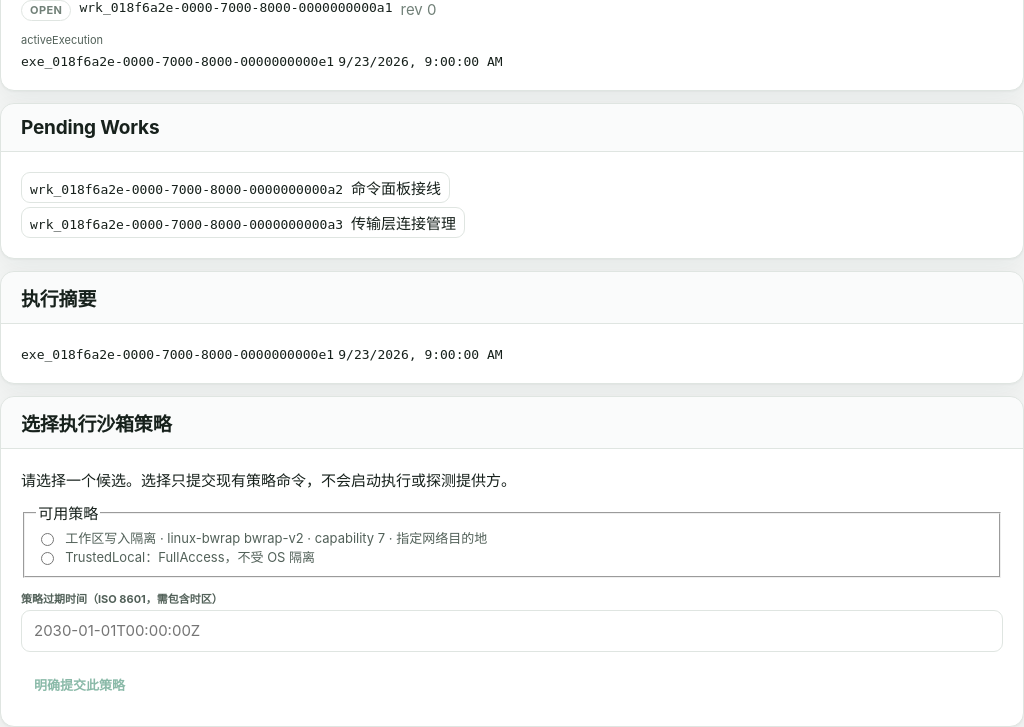
it: W-05 Workspace page › clears a stale candidate read and requires a fresh deliberate reselection even when its ID is unchanged
(page scrolled)
Click the radio button labelled "工作区写入隔离 · linux-bwrap bwrap-v2 · capability 7 · 指定网络目的地" at {"x": 48, "y": 539}, box top-left (41, 533), bottom-right (54, 546)
(page scrolled)
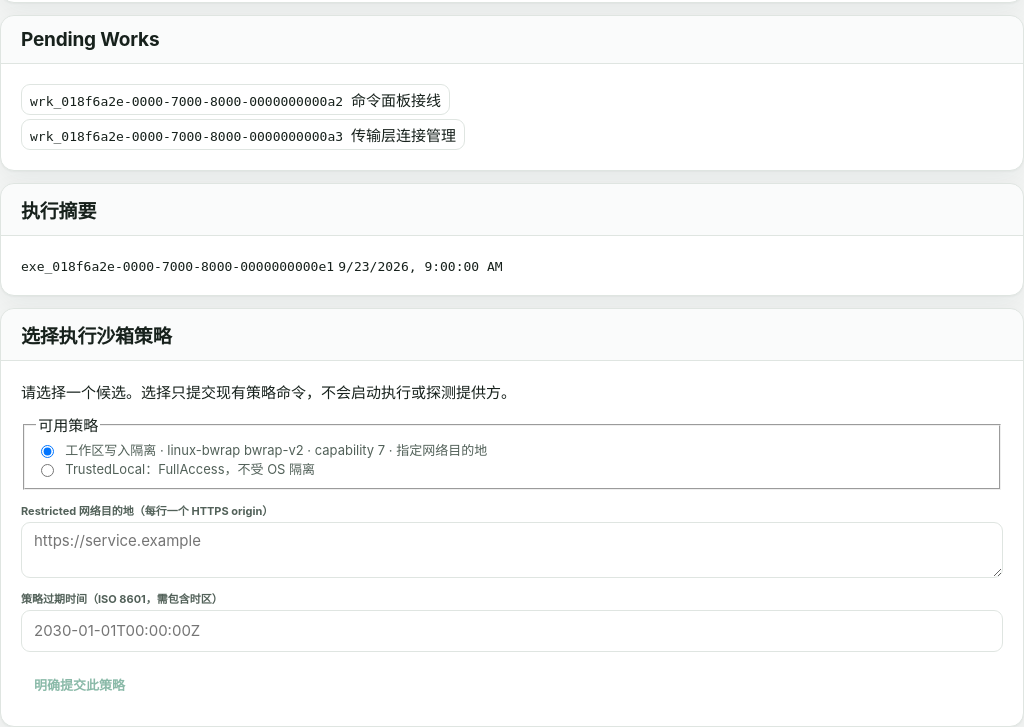
Type "2099-10-12T08:30:00Z" into the field labelled "策略过期时间（ISO 8601，需包含时区）" at {"x": 512, "y": 631}, box top-left (21, 610), bottom-right (1003, 652)
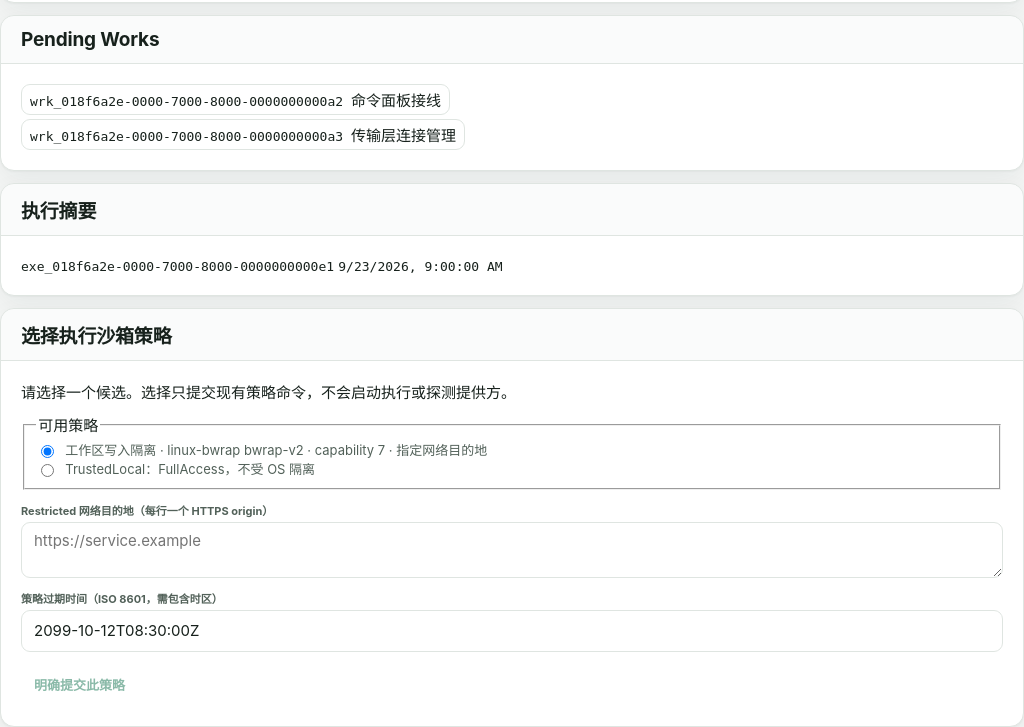
Type "https://a.example" into the text box labelled "Restricted 网络目的地（每行一个 HTTPS origin）" at {"x": 512, "y": 550}, box top-left (21, 522), bottom-right (1003, 578)
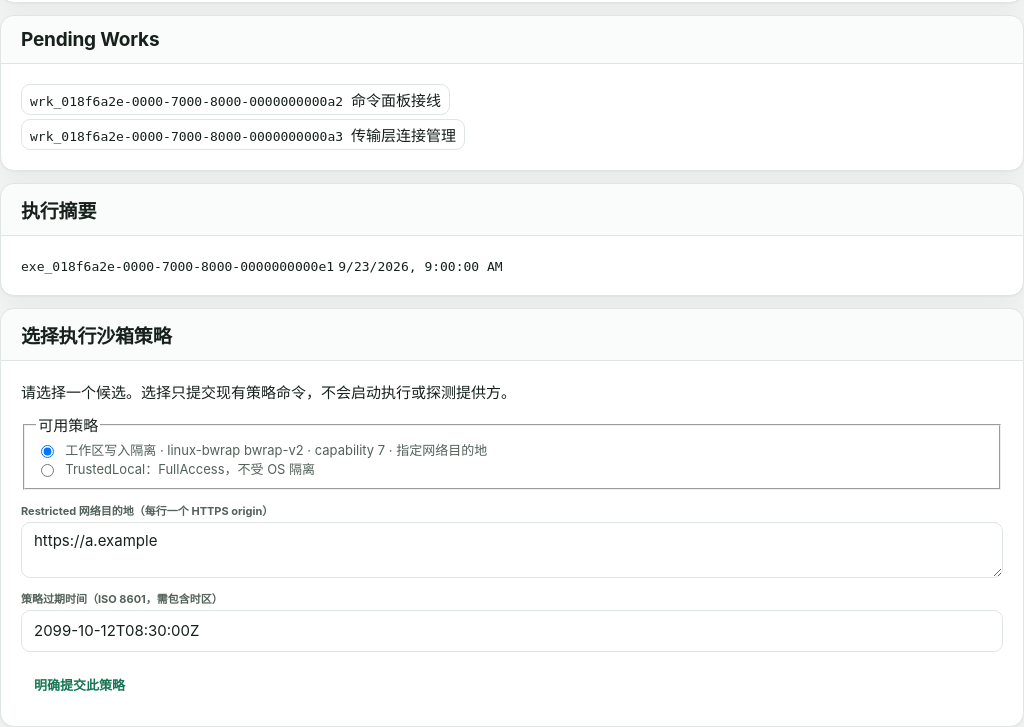
Click the button "明确提交此策略" at {"x": 80, "y": 685}, box top-left (21, 664), bottom-right (138, 706)
(page scrolled)
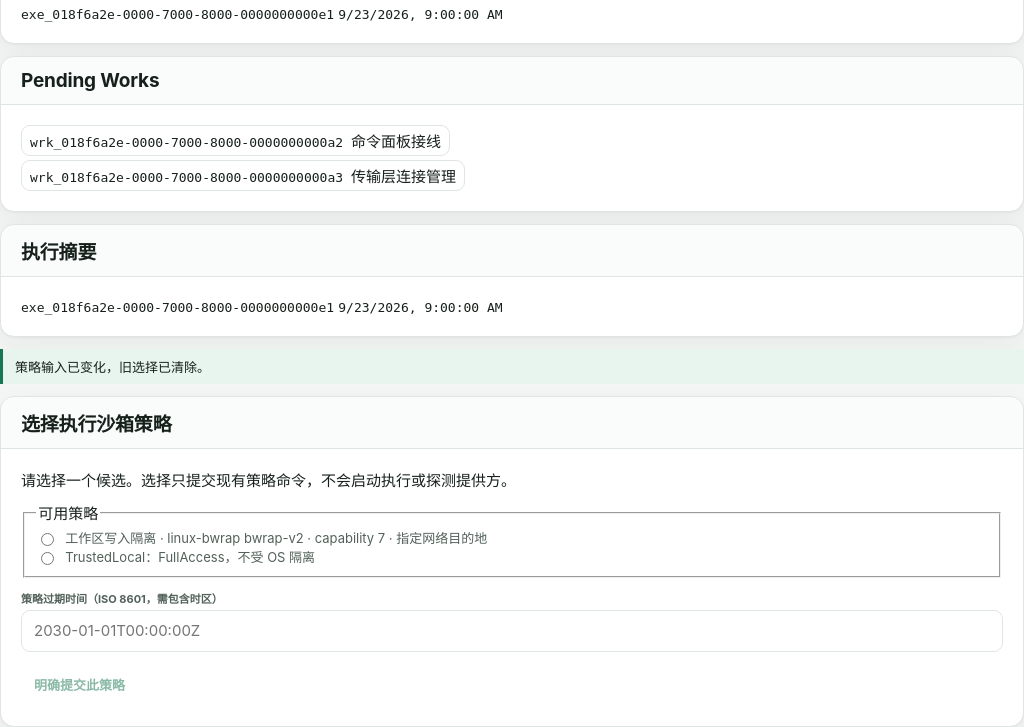
Now the radio button labelled "工作区写入隔离 · linux-bwrap bwrap-v2 · capability 7 · 指定网络目的地" is not checked, box top-left (41, 533), bottom-right (54, 546)
Now the message shows "策略输入已变化", box top-left (15, 359), bottom-right (210, 375)
